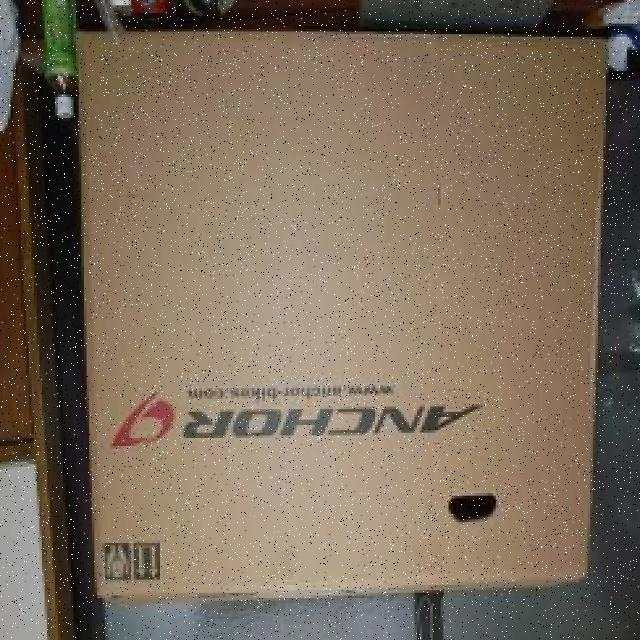box: (68, 16, 586, 598)
